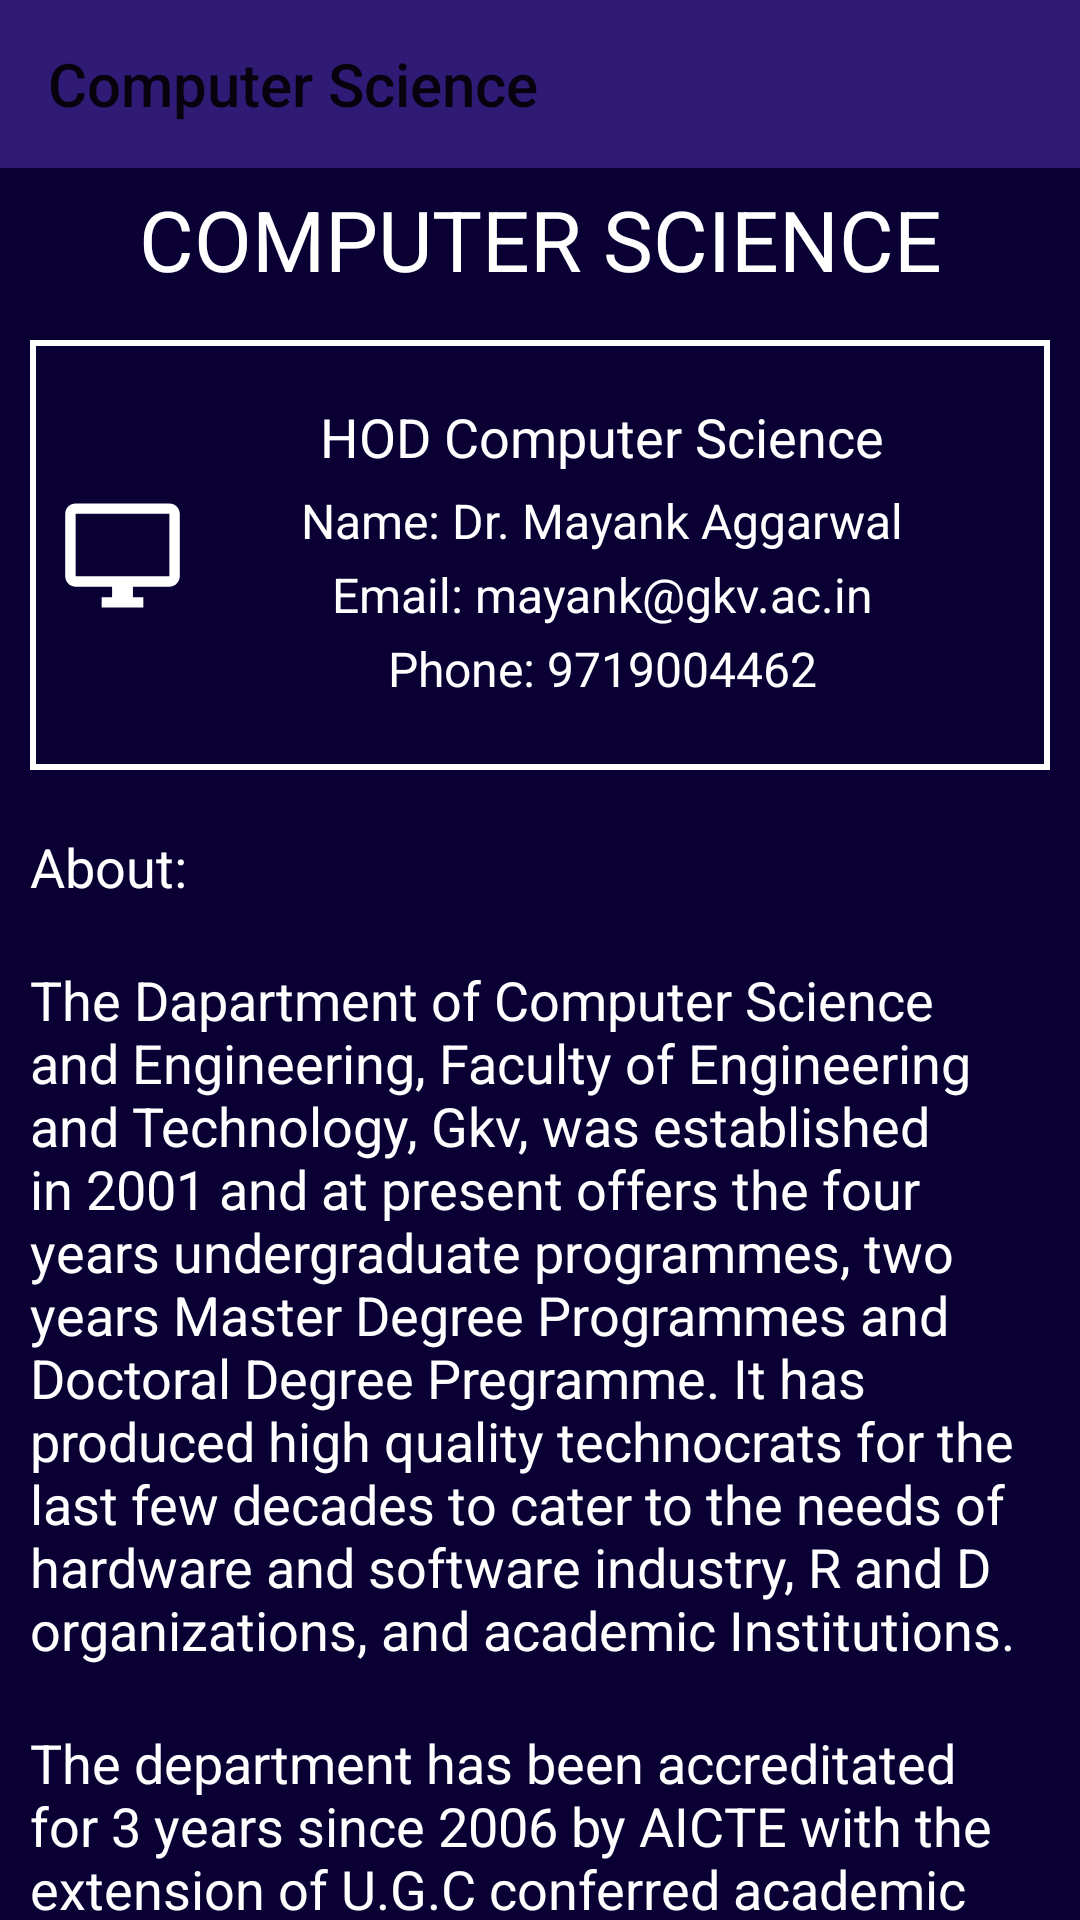

Icon bounding boxes for this 1080x1920 phone screenshot, format detection(x1, y1, x2, y2):
desktop windows: detection(65, 503, 180, 608)
